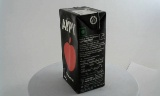appy: (54, 5, 100, 94)
